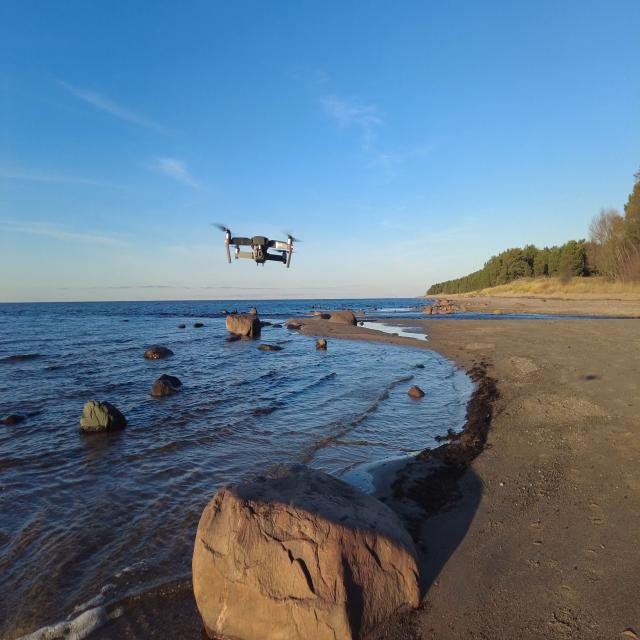Drone: (225, 229, 312, 267)
